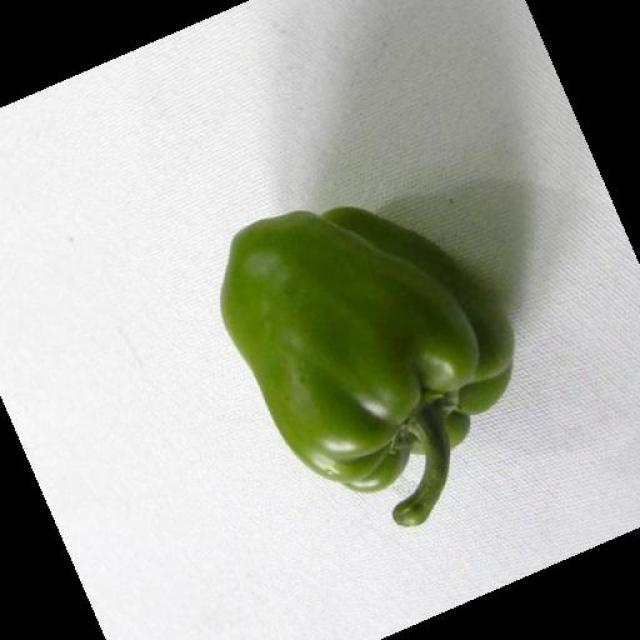Fresh_Capsicum: (203, 204, 565, 523)
